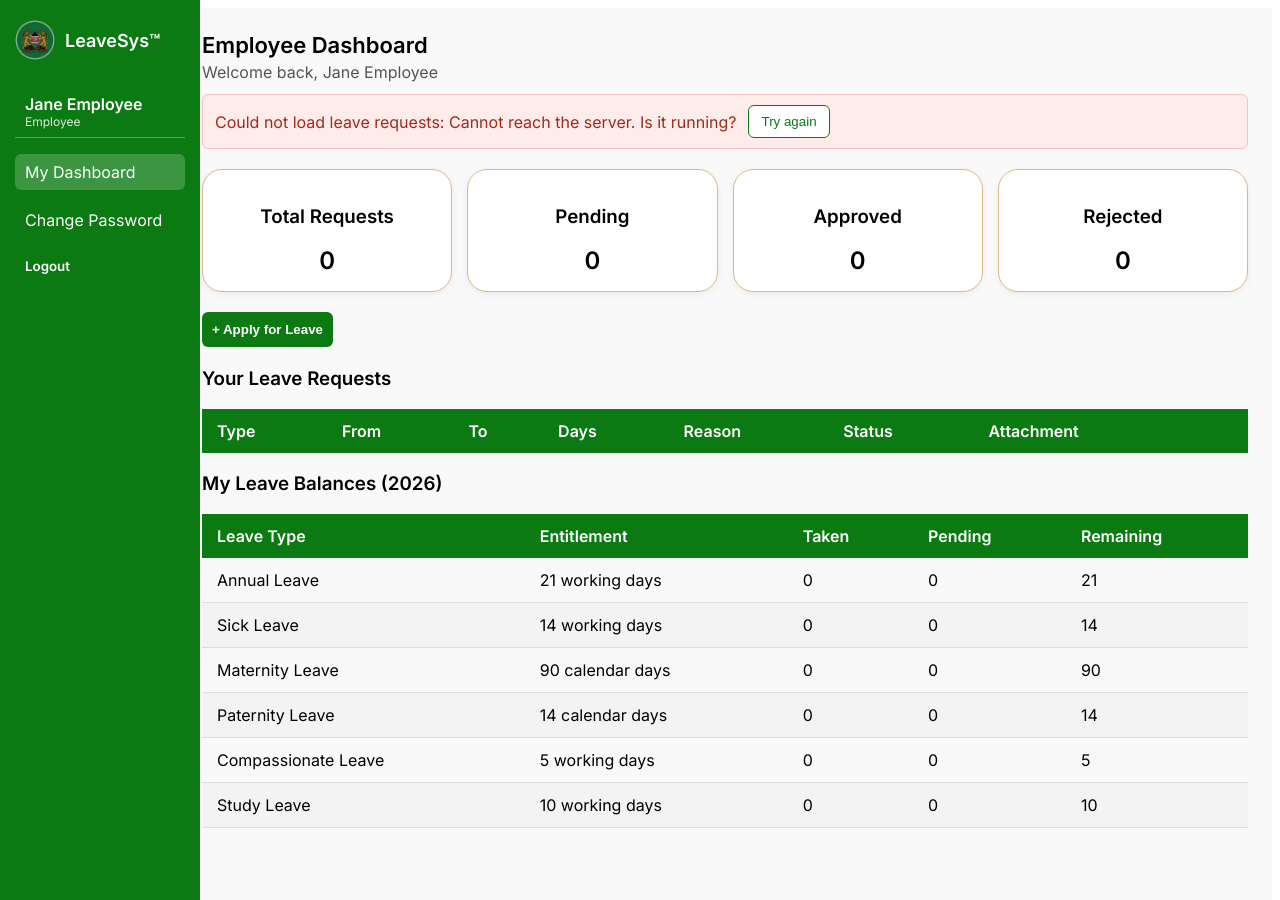
Scenario: shows an error with a retry button if requests cannot be loaded
Expected: the text "Could not load leave requests" is shown, [215, 112, 449, 132]
Click the button "Try again" at (789, 122), box [748, 105, 830, 138]
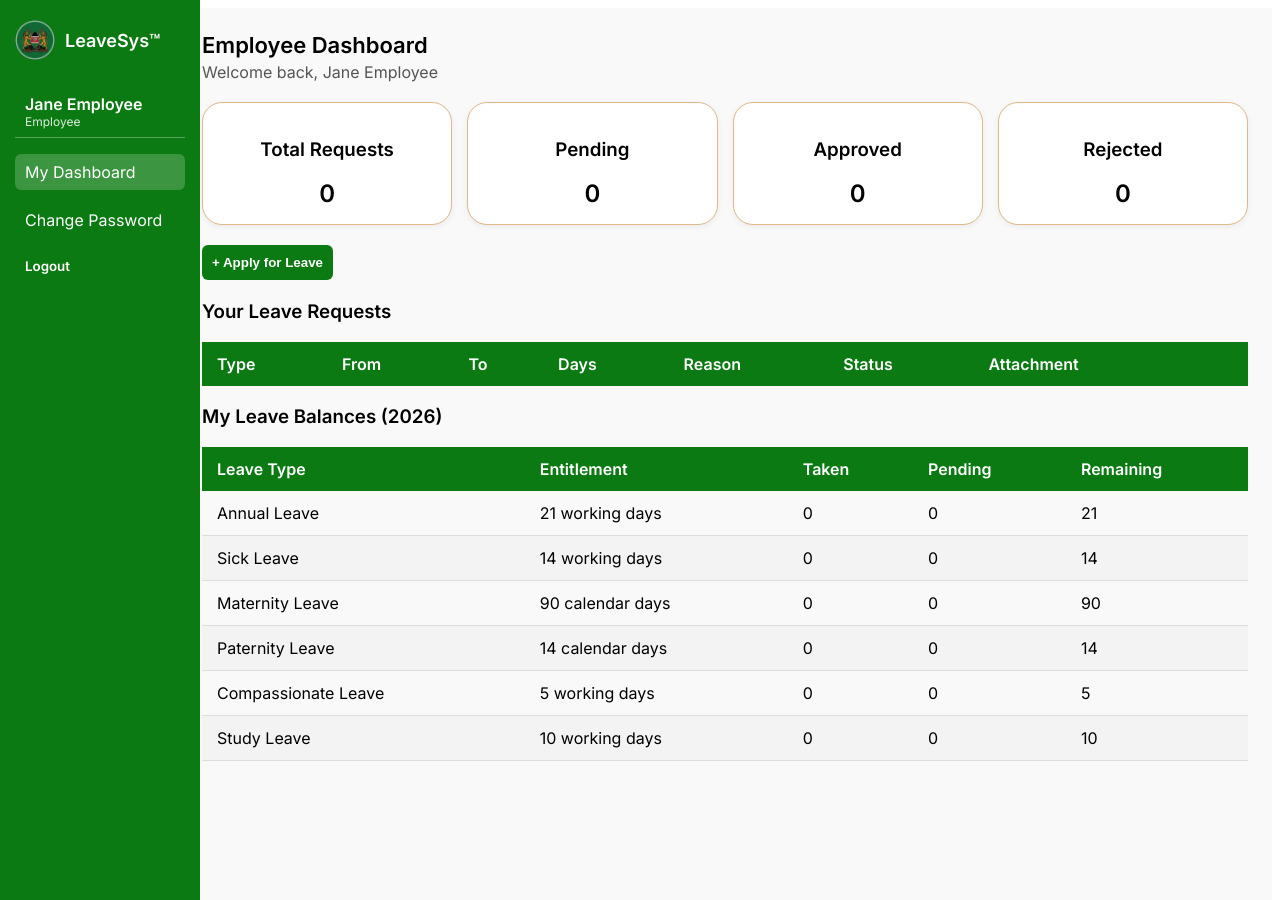
Expected: the text "Could not load leave requests" is gone
